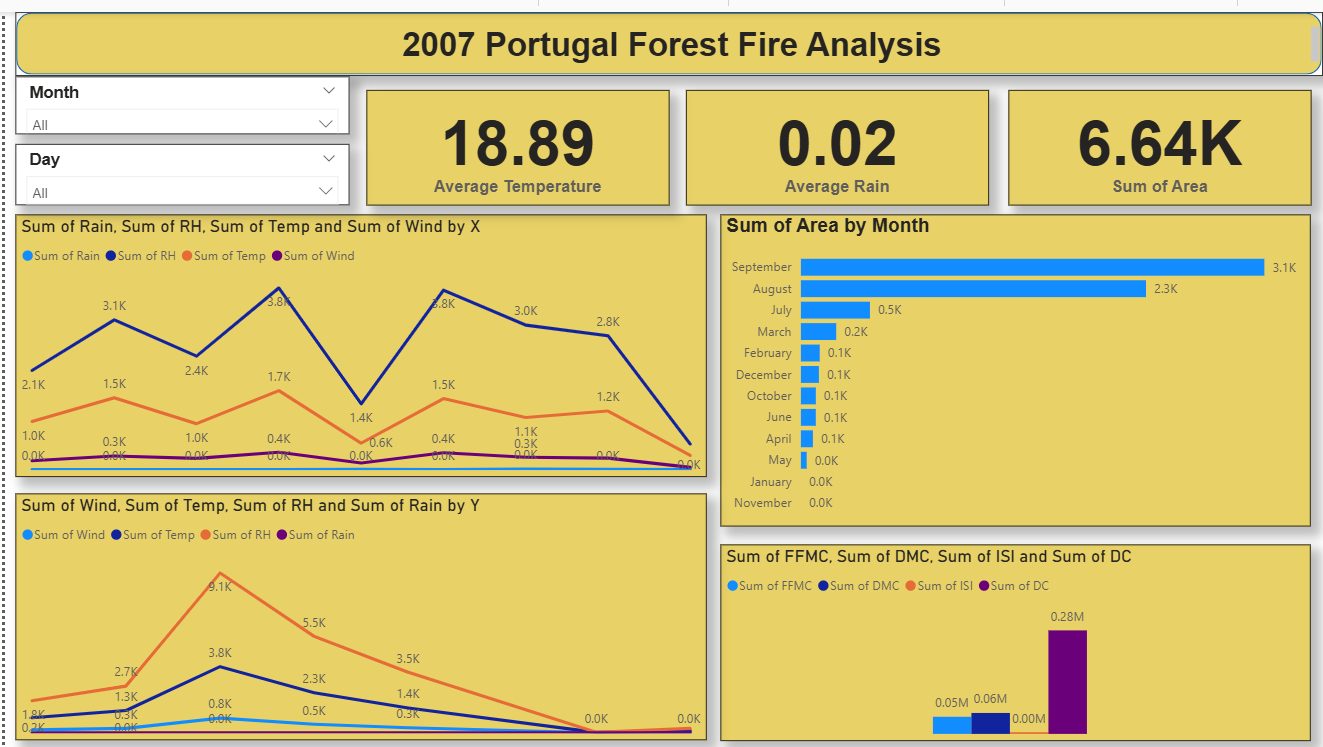

The dashboard page shown, as its layout file describes it:
{"tool":"powerbi","page":{"name":"Page 1","canvas":[1280,720],"ordinal":0},"visuals":[{"type":"shape","box":[10.6,0,1268.9,62.1],"z":0},{"type":"clusteredColumnChart","fields":{"Y":["Sum(forestfires.FFMC)","Sum(forestfires.DMC)","Sum(forestfires.ISI)","Sum(forestfires.DC)"]},"box":[695,516.3,572.4,190.8],"z":1},{"type":"card","fields":{"Values":["Sum(forestfires.Area)"]},"box":[973.6,75.7,293.8,112.1],"z":2},{"type":"card","fields":{"Values":["forestfires.Average Temperature"]},"box":[660.2,75.7,293.8,112.1],"z":3},{"type":"clusteredBarChart","fields":{"Y":["Sum(forestfires.Area)"],"Category":["forestfires.Month"]},"box":[695,196.8,572.4,302.8],"z":4},{"type":"lineChart","fields":{"Y":["Sum(forestfires.Rain)","Sum(forestfires.RH)","Sum(forestfires.Temp)","Sum(forestfires.Wind)"],"Category":["forestfires.X"]},"box":[10.6,196.8,670.8,254.4],"z":5},{"type":"lineChart","fields":{"Category":["forestfires.Y"],"Y":["Sum(forestfires.Wind)","Sum(forestfires.Temp)","Sum(forestfires.RH)","Sum(forestfires.Rain)"]},"box":[10.6,467.9,670.8,239.2],"z":6},{"type":"slicer","fields":{"Values":["forestfires.Month"]},"box":[10.6,62.1,324,56],"z":7},{"type":"card","fields":{"Values":["forestfires.Average Temperature"]},"box":[351.3,75.7,293.8,112.1],"z":8},{"type":"slicer","fields":{"Values":["forestfires.Day"]},"box":[10.6,128.7,324,59.1],"z":9},{"type":"textbox","box":[22.7,9.1,1256.8,45.4],"z":10}]}

Visuals, with their boxes in screenshot pixels (x1, y1, x2, y2), scaled from the page's 1280x720 canvas onto the 1323x747 screenshot:
shape: x1=11 y1=0 x2=1322 y2=64
clusteredColumnChart - Sum(forestfires.FFMC) x Sum(forestfires.DMC): x1=718 y1=536 x2=1310 y2=734
card - Sum(forestfires.Area): x1=1006 y1=79 x2=1310 y2=195
card - forestfires.Average Temperature: x1=682 y1=79 x2=986 y2=195
clusteredBarChart - Sum(forestfires.Area) x forestfires.Month: x1=718 y1=204 x2=1310 y2=518
lineChart - Sum(forestfires.Rain) x Sum(forestfires.RH): x1=11 y1=204 x2=704 y2=468
lineChart - forestfires.Y x Sum(forestfires.Wind): x1=11 y1=485 x2=704 y2=734
slicer - forestfires.Month: x1=11 y1=64 x2=346 y2=123
card - forestfires.Average Temperature: x1=363 y1=79 x2=667 y2=195
slicer - forestfires.Day: x1=11 y1=134 x2=346 y2=195
textbox: x1=23 y1=9 x2=1322 y2=57
